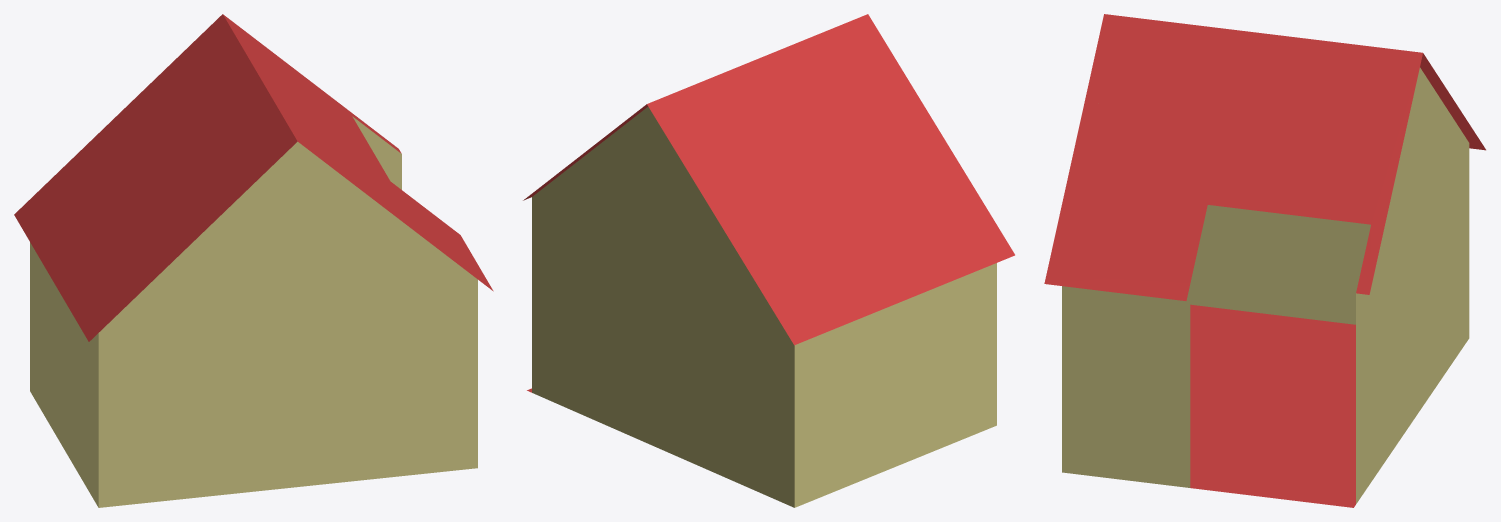
3 views of the same model, side by side, from view 1: azimuth 30°, elevation 25°; view 2: azimuth 150°, elevation 25°; view 3: azimuth 270°, elevation 25° (orthographic). The views are drawn at different scales.
Bounding box in the file's own units: 17.81 × 15.68 × 14.67.
